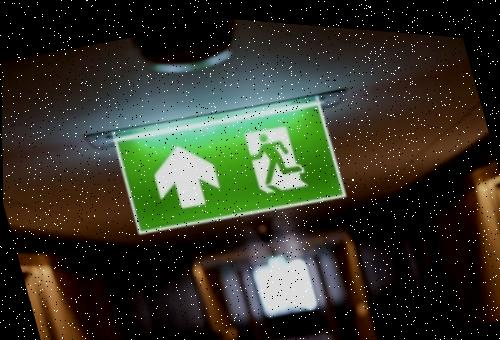emergency_exit: (110, 91, 347, 236)
